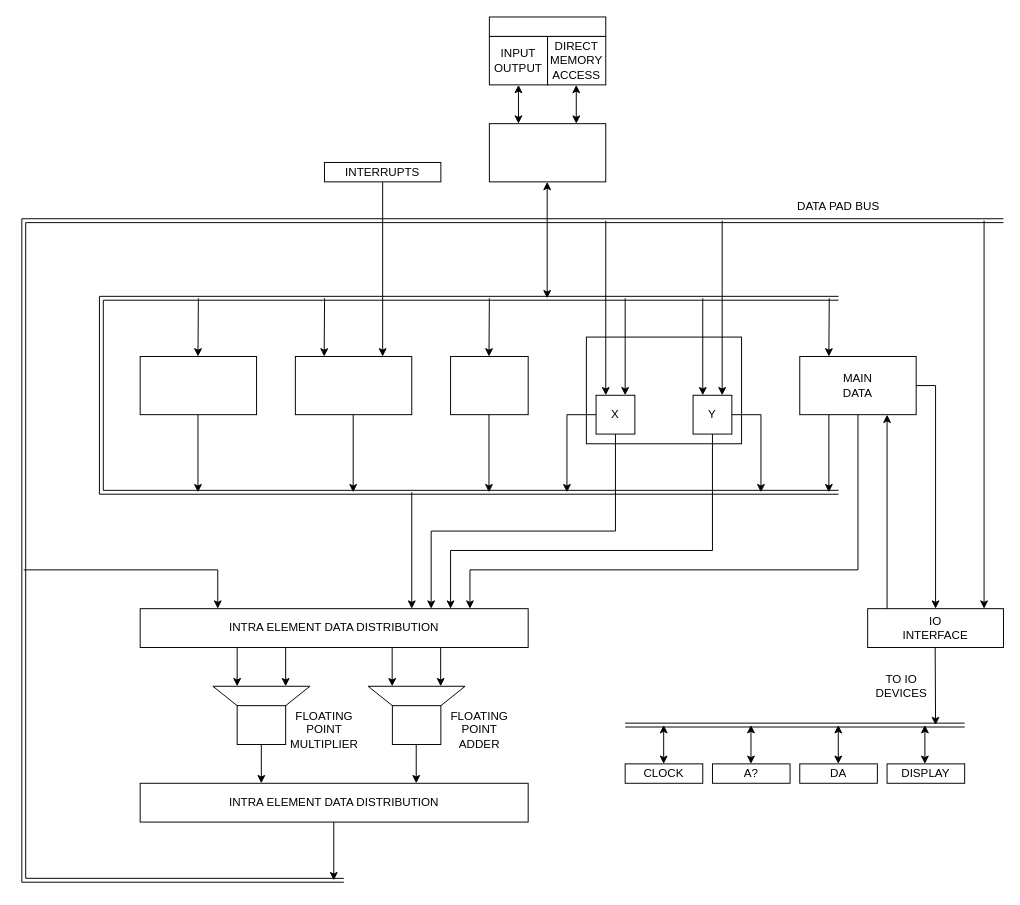
The diagram is 1020 pixels wide and 905 high, and some of its shapes have lost their labels. Each missing label, with the box of its shape:
CONTROL PROGRAM MEMORY UNIT: (294, 356, 412, 415)
FLOATING POINT SCRATCH PAD: (585, 336, 742, 444)
HOST CPU: (488, 16, 606, 36)
INTEGER PROCESSOR UNIT: (139, 356, 257, 415)
INTER PROCESSOR INTERFACE: (488, 123, 606, 182)
TABLE MEMORY: (450, 356, 528, 415)
